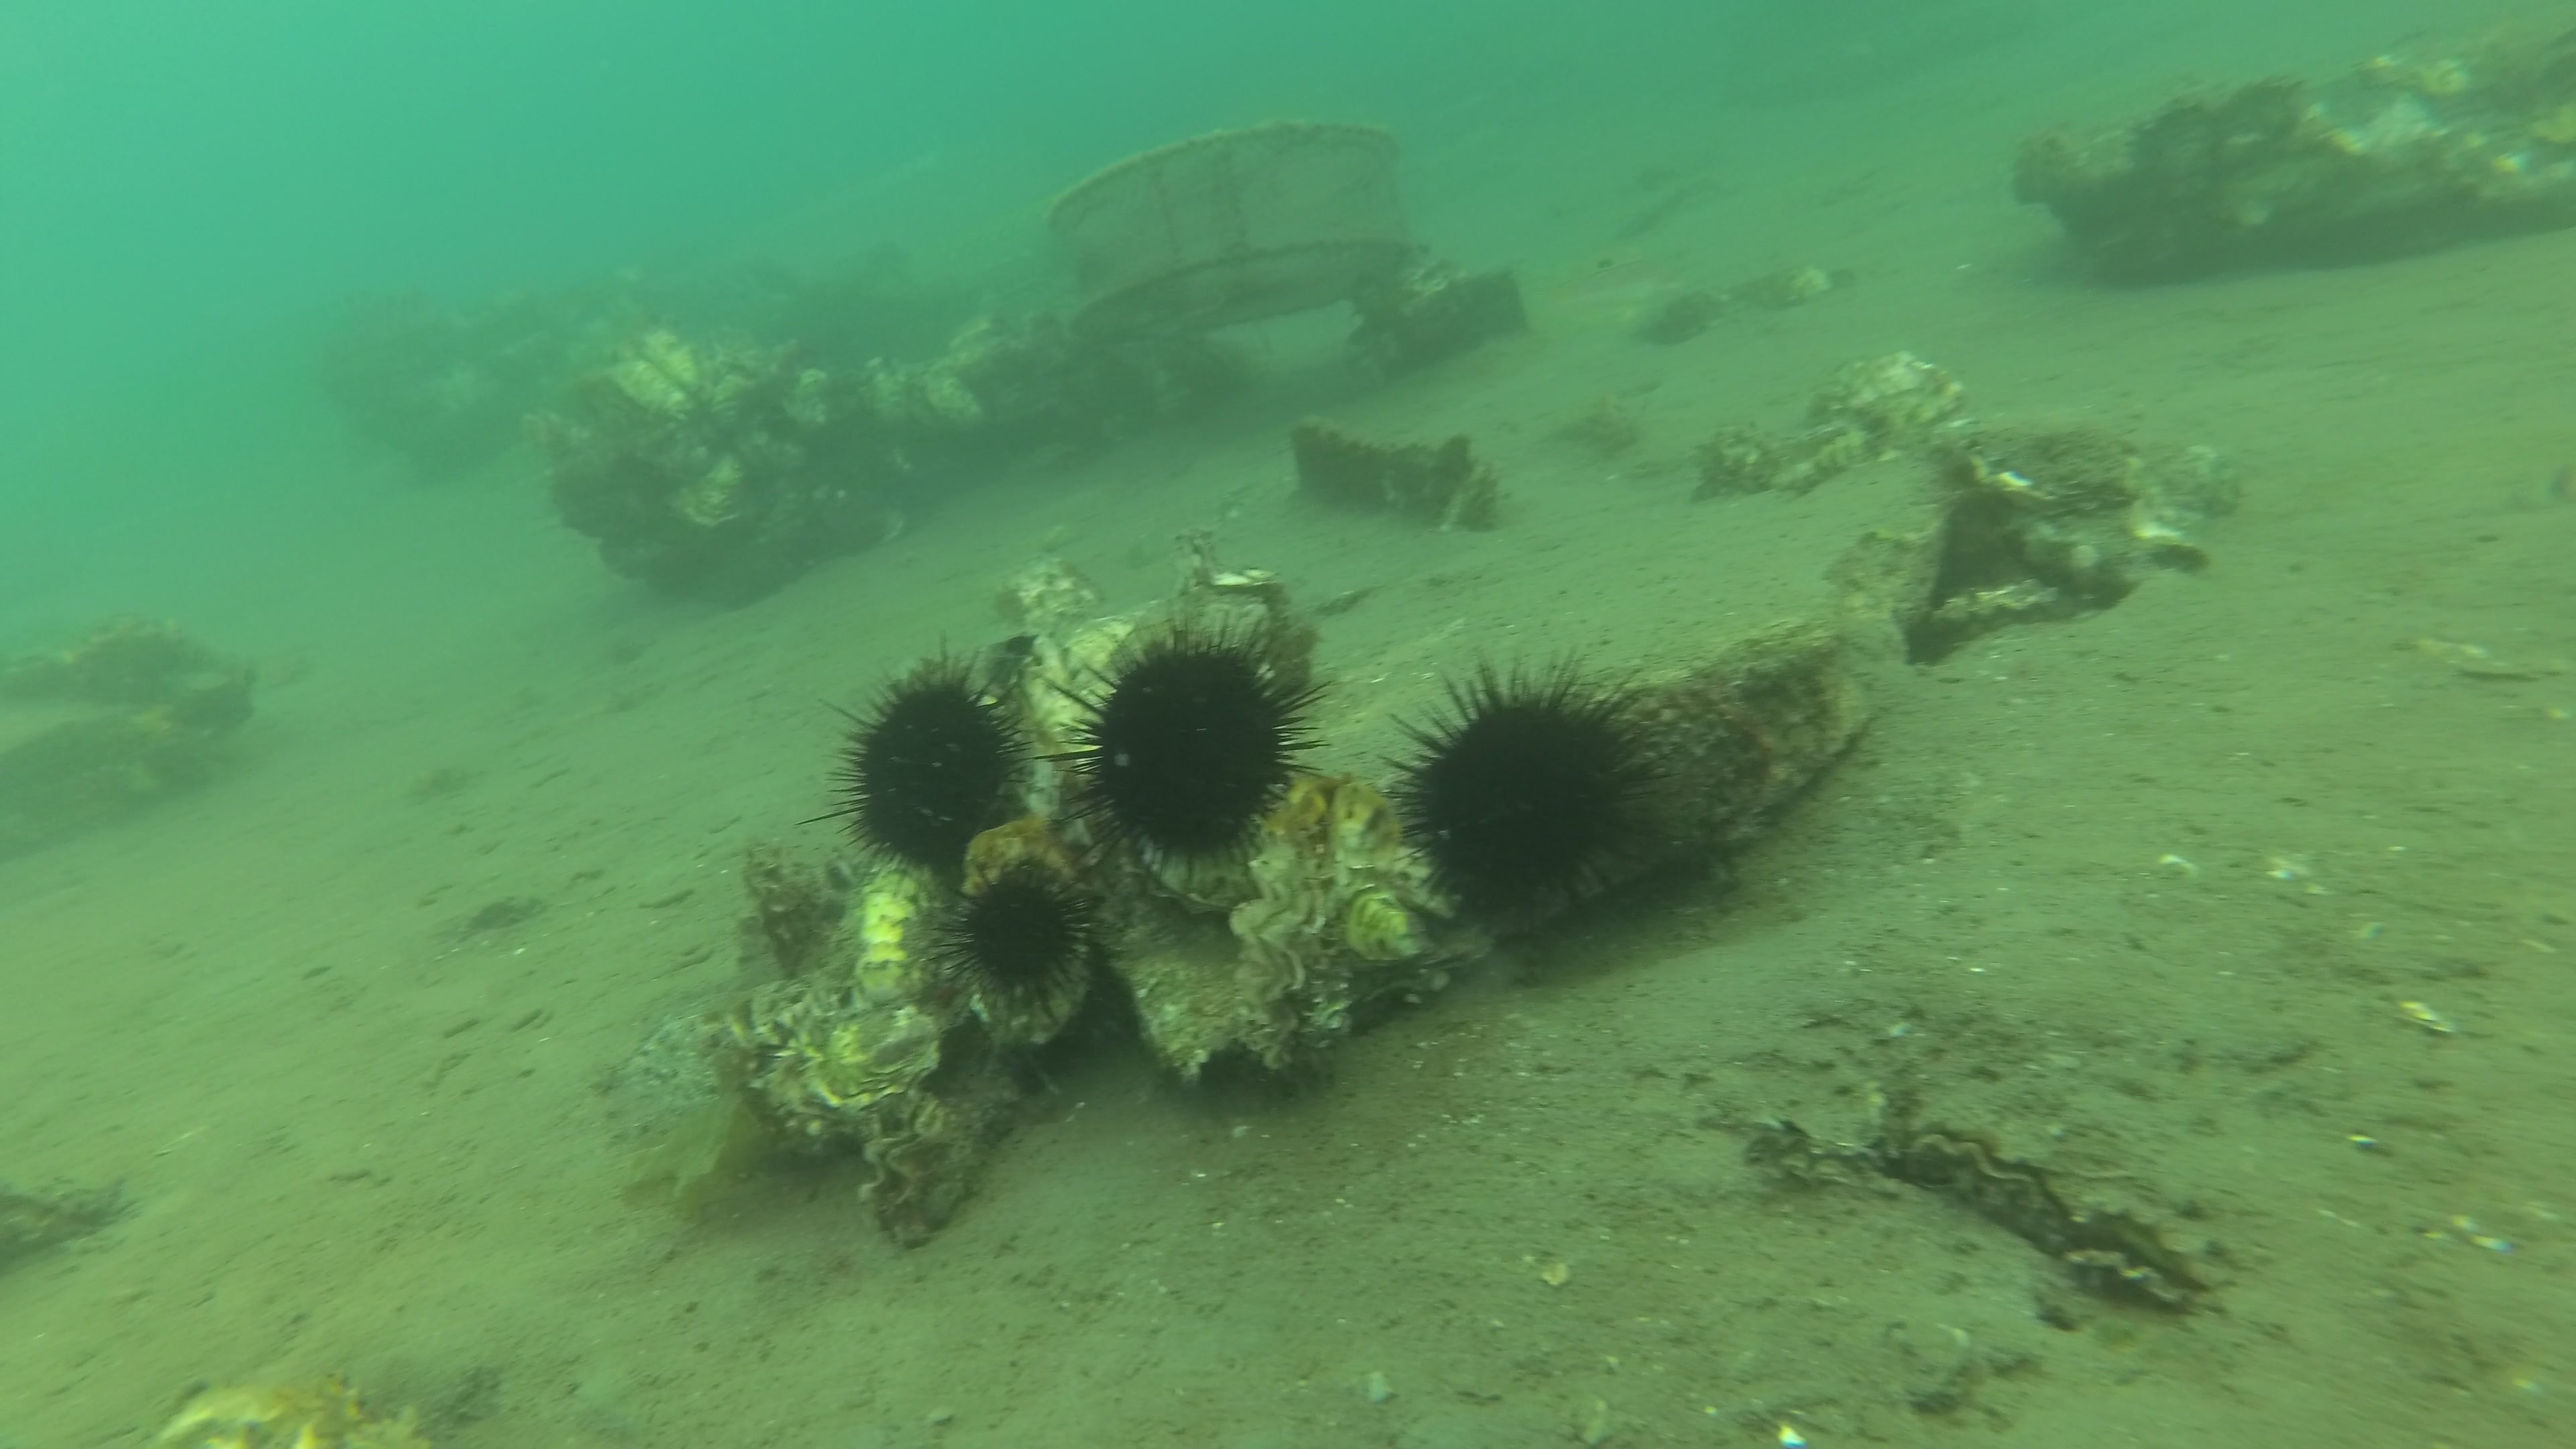echinus: (1378, 649, 1684, 941), (1035, 605, 1336, 893), (793, 628, 1044, 899), (924, 855, 1111, 1008)
